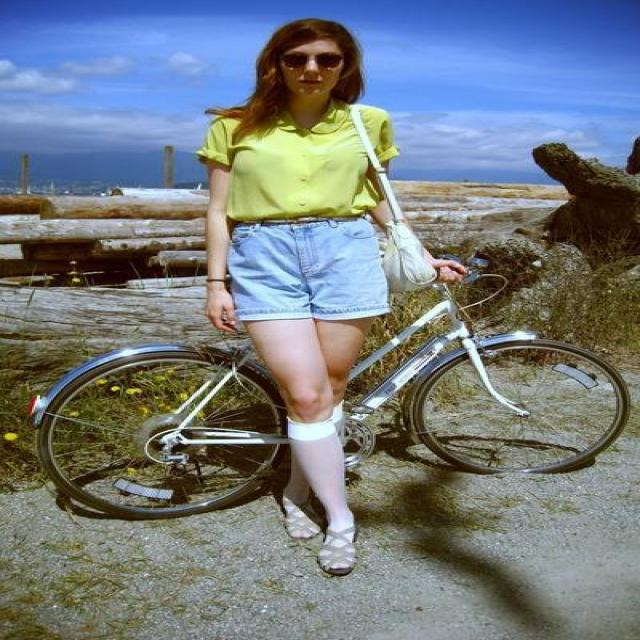bag: (362, 174, 446, 319)
shirt: (198, 98, 397, 240)
shoe: (296, 499, 352, 578)
shorts: (230, 218, 392, 326)
